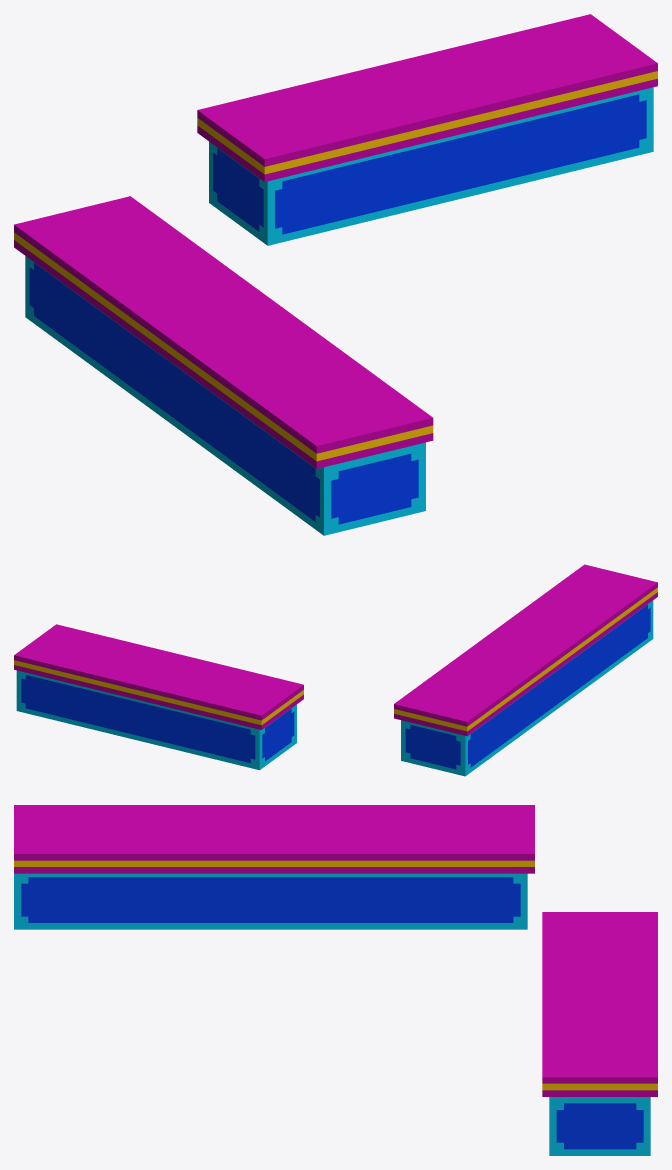
The model's file is level_1.3.obj.
3 views of the same model, one above another, from view 1: azimuth 30°, elevation 25°; view 2: azimuth 150°, elevation 25°; view 3: azimuth 270°, elevation 25° (orthographic). The views are drawn at different scales.
Size of the model in its own units: 8.9 by 1.2 by 8.9.
Materials: 1 (1 with a texture image).
